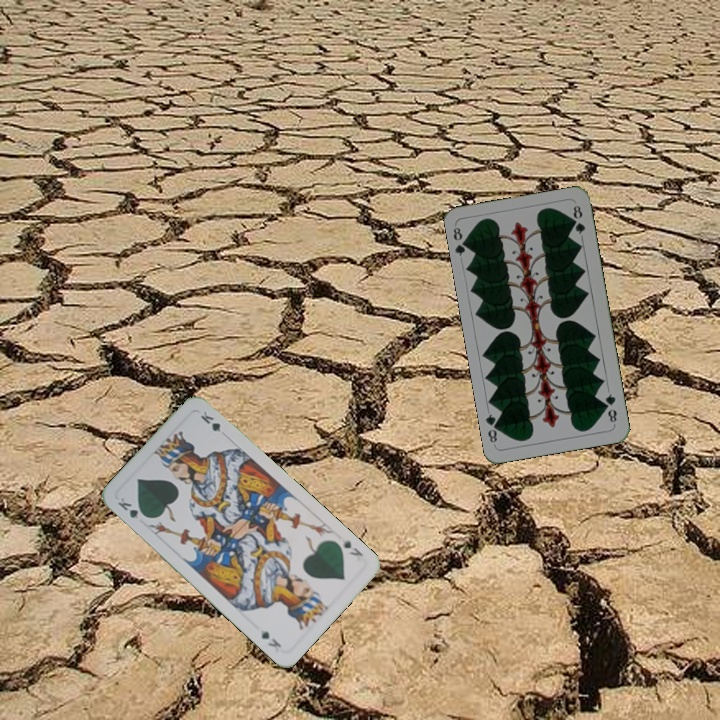G8: (449, 222, 472, 258), (601, 390, 619, 425)
GK: (113, 494, 150, 522), (338, 534, 365, 559)
